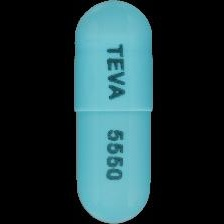69189-5550: (0, 0, 224, 224)
